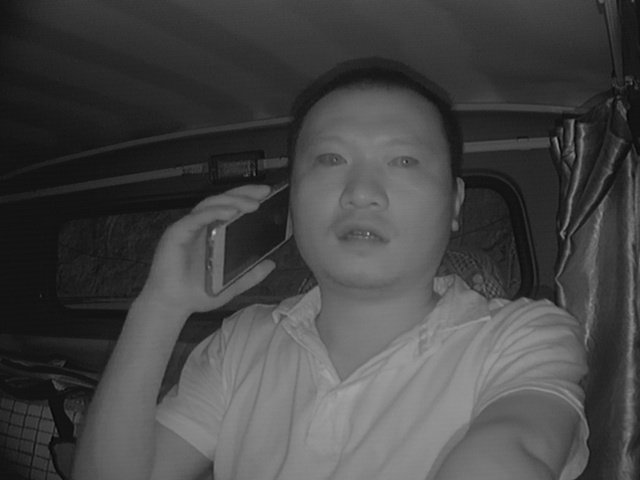hand: (146, 183, 278, 312)
